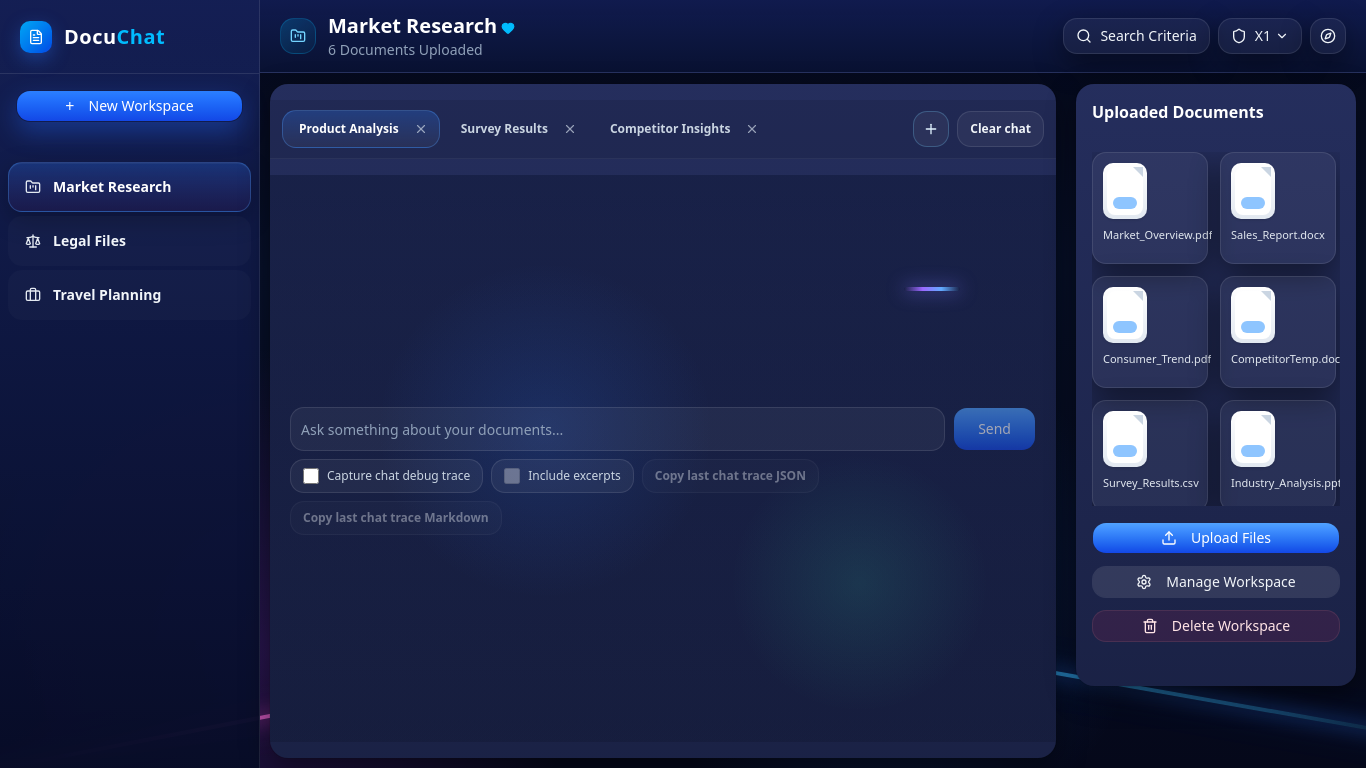
Test case: App › keeps only one file tooltip open at a time
Hover over the button with aria-label "Open details for Market_Overview.pdf": (1150, 208) [1092,152,1208,264]
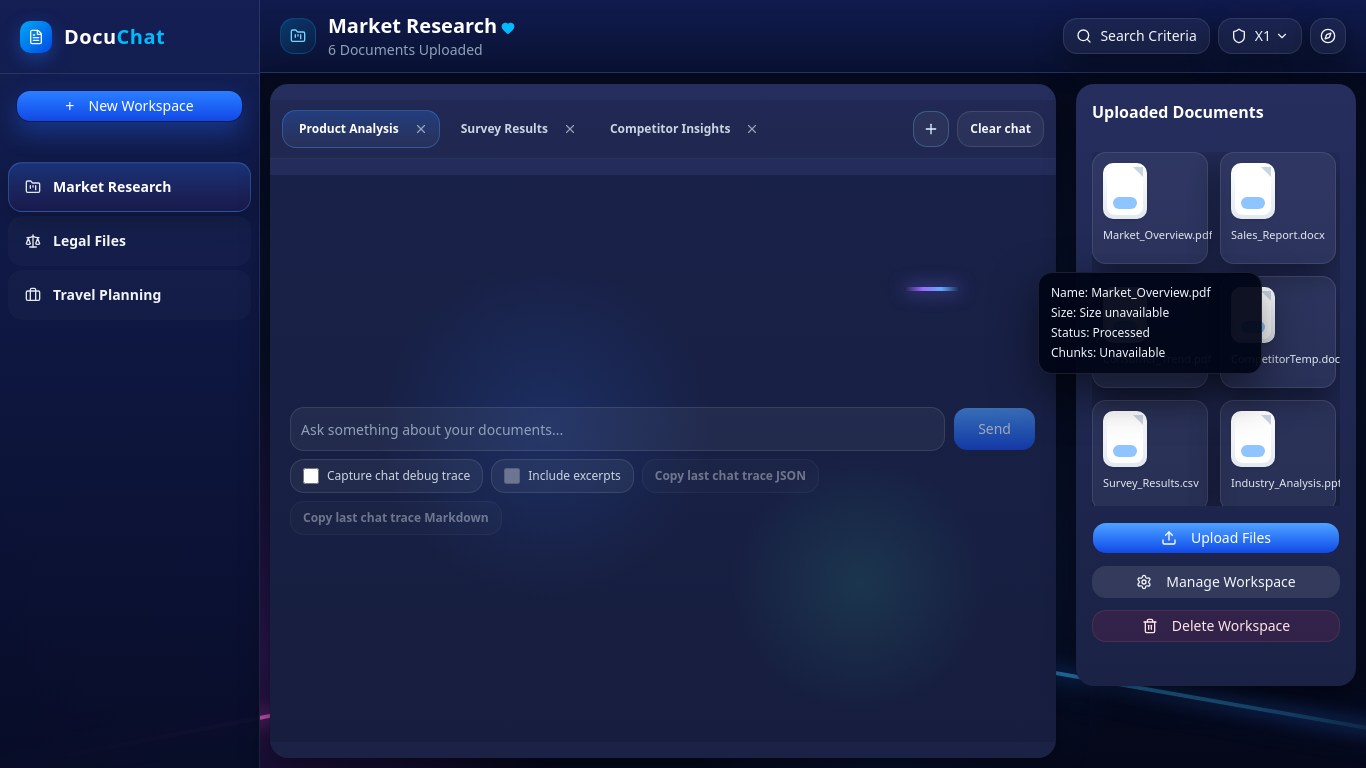
Expected: the tooltip is shown, [1038,272,1262,374]
Expected: the text "Name: Market_Overview.pdf" is shown, [1051,284,1211,301]
Hover over the button with aria-label "Open details for Sales_Report.docx": (1278, 208) [1220,152,1336,264]
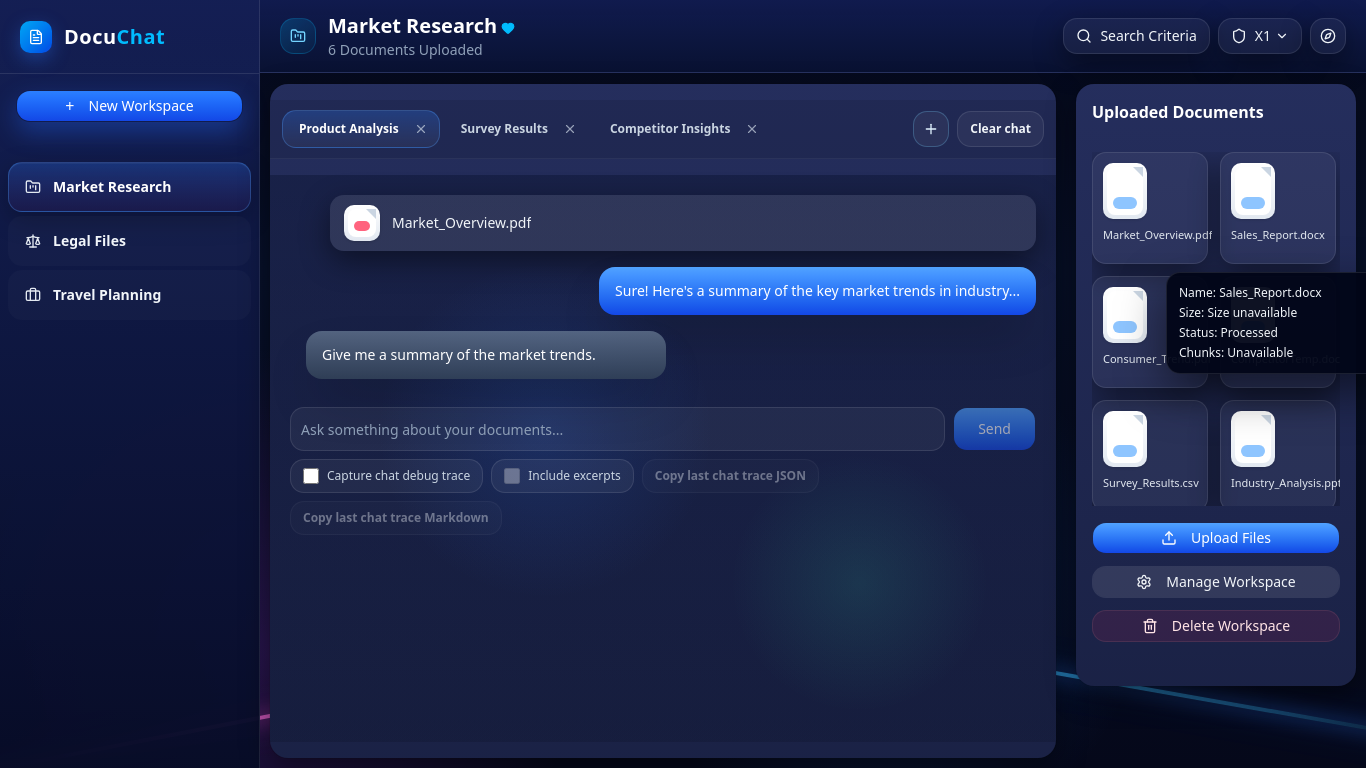
Expected: the text "Name: Market_Overview.pdf" is gone
Expected: the text "Name: Sales_Report.docx" is shown, [1179,284,1322,301]
